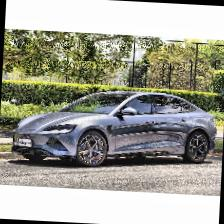EV: (10, 83, 220, 175)
